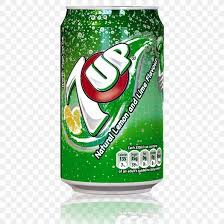can: (57, 2, 168, 195)
